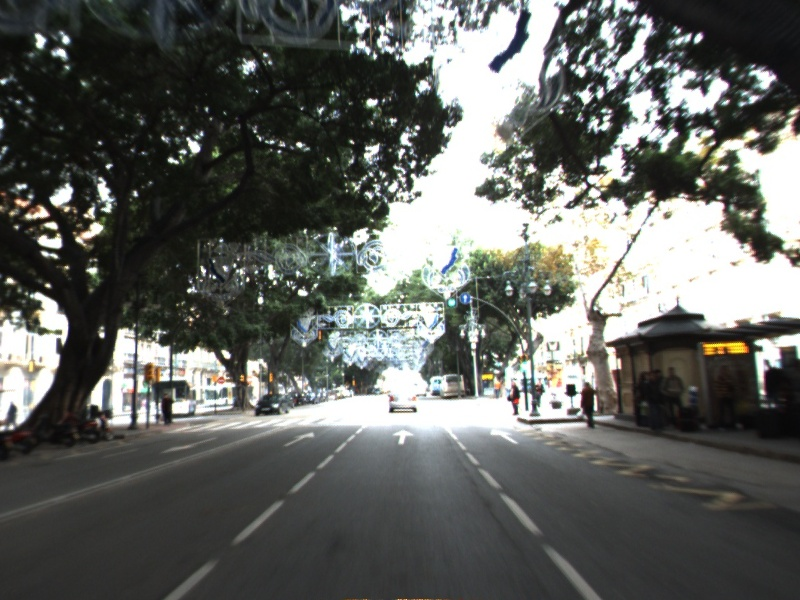STRAIGHT: (488, 425, 520, 446), (281, 430, 316, 448), (390, 427, 416, 446)
